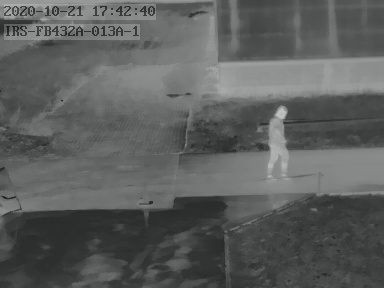person: (264, 106, 292, 178)
